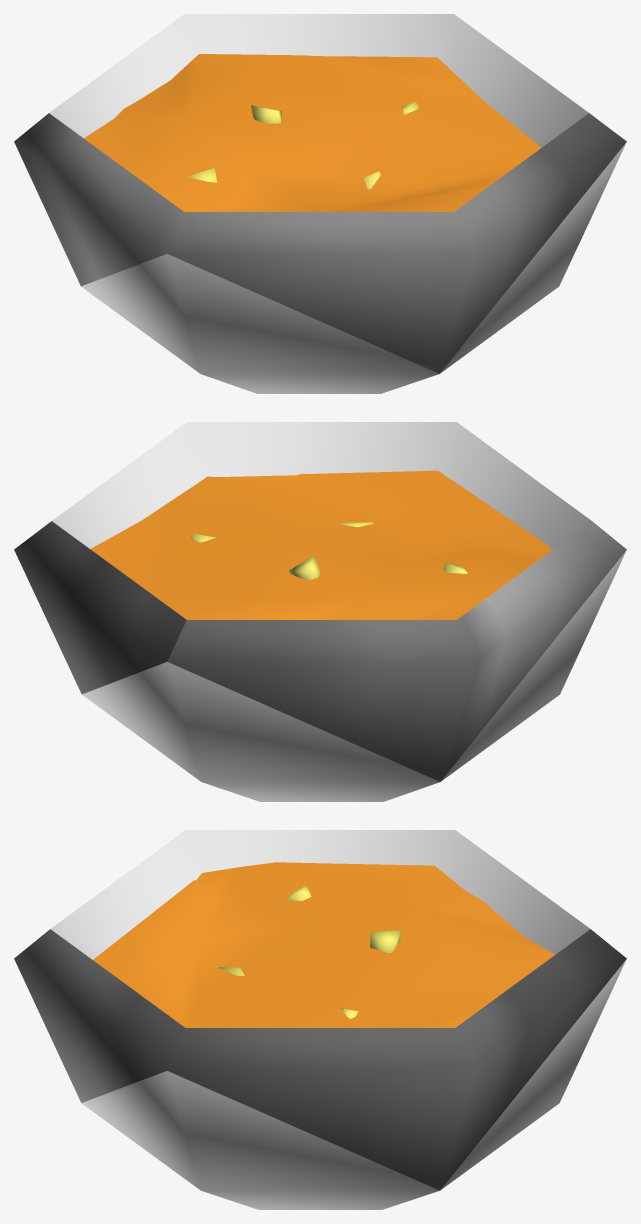
The model's file is orangeJuice.glb.
3 renders of one model, top to bottom at view 1: azimuth 30°, elevation 25°; view 2: azimuth 150°, elevation 25°; view 3: azimuth 270°, elevation 25°, orthographic.
Visible parts, largest first — view 1: Cube; view 2: Cube; view 3: Cube.
Boxes of the visible parts, bbox=[...] form: Cube: bbox=[14, 14, 626, 393]; Cube: bbox=[14, 422, 626, 801]; Cube: bbox=[14, 830, 626, 1209].
Bounding box in the file's own units: 0.2467 × 0.1207 × 0.2849.
Materials: 5 (1 with a texture image).
